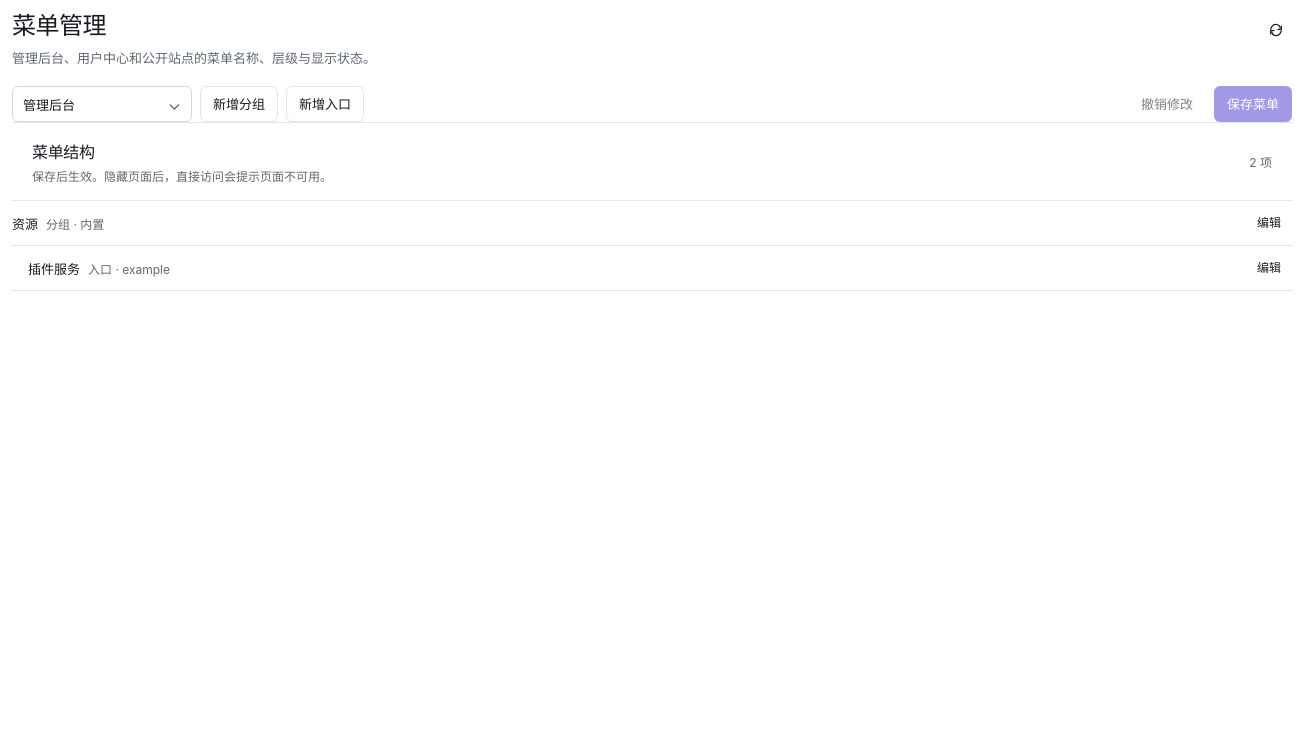
it: menu editor › preserves the draft on revision conflict and supports discarding it
Click the button "编辑" in the row of "分组 · 内置".
click(1269, 223)  # box [1246,207,1292,239]
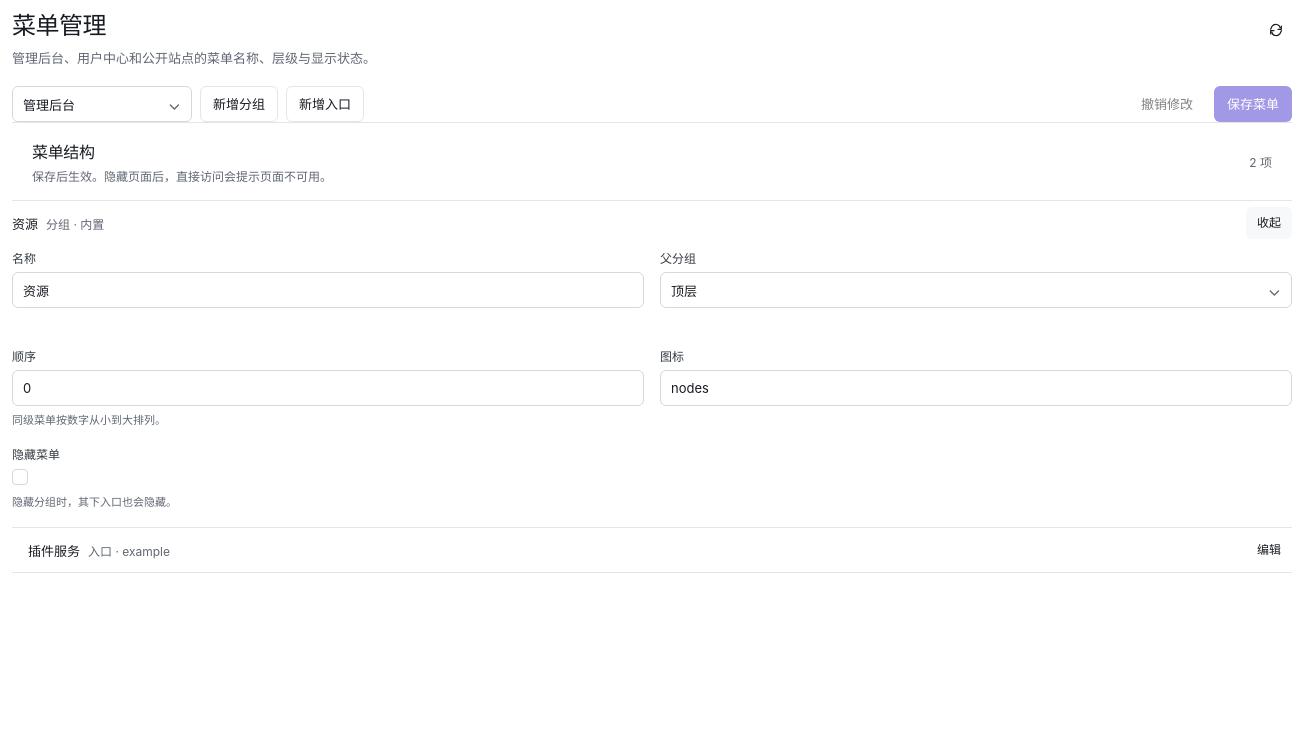
Replace the text in the field named "group 名称" with "我的资源" at (328, 290), box [12,272,644,308]
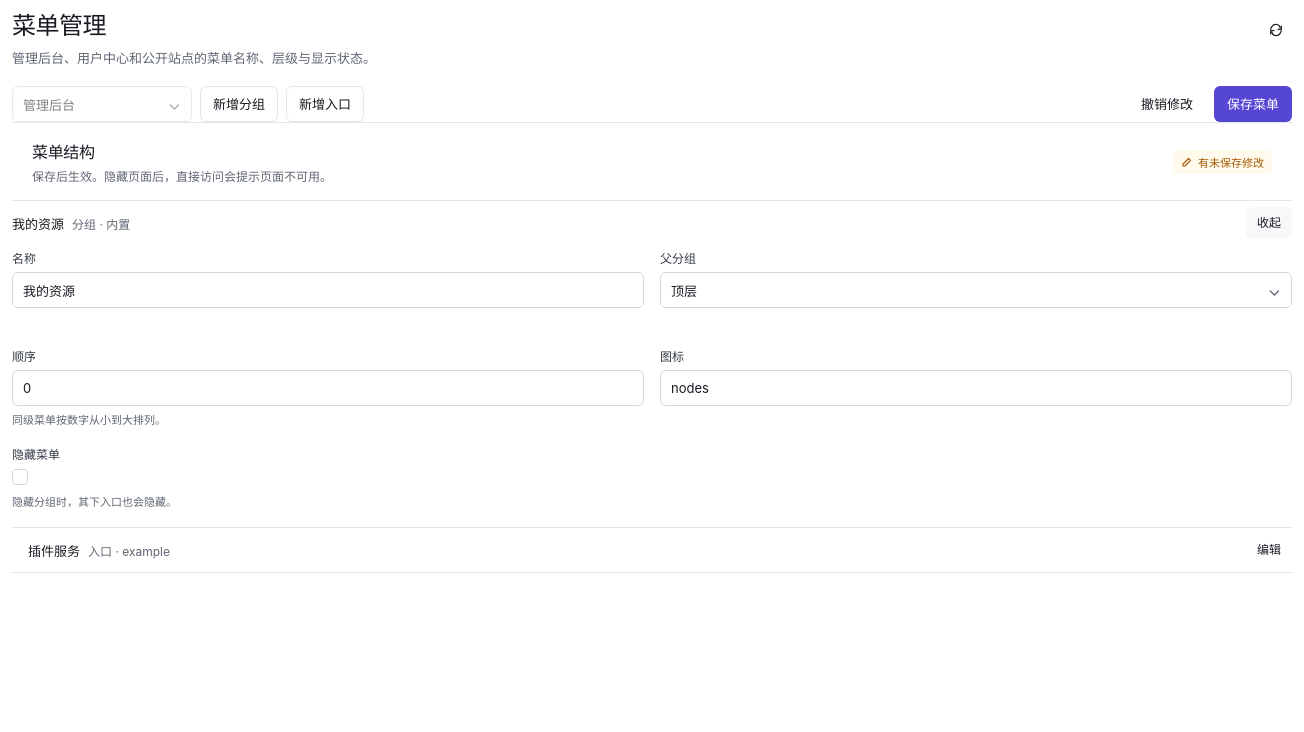
Expected: the dropdown named "菜单范围" is disabled, [12,86,192,122]
Click the button "保存菜单".
click(1253, 104)  # box [1214,86,1292,122]
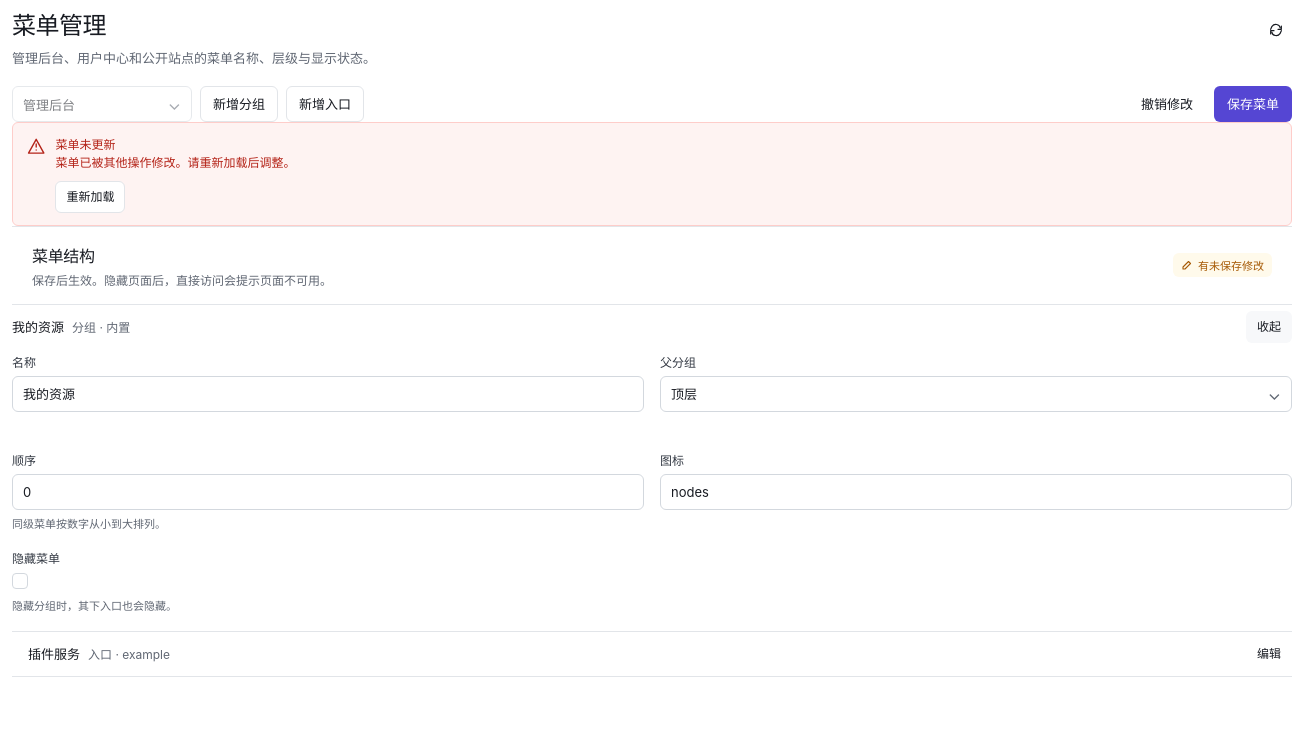
Expected: the message "菜单未更新 菜单已被其他操作修改。请重新加载后调整。 重新加载" is shown, [12,122,1292,226]
Click the button "撤销修改".
click(1167, 104)  # box [1128,86,1206,122]
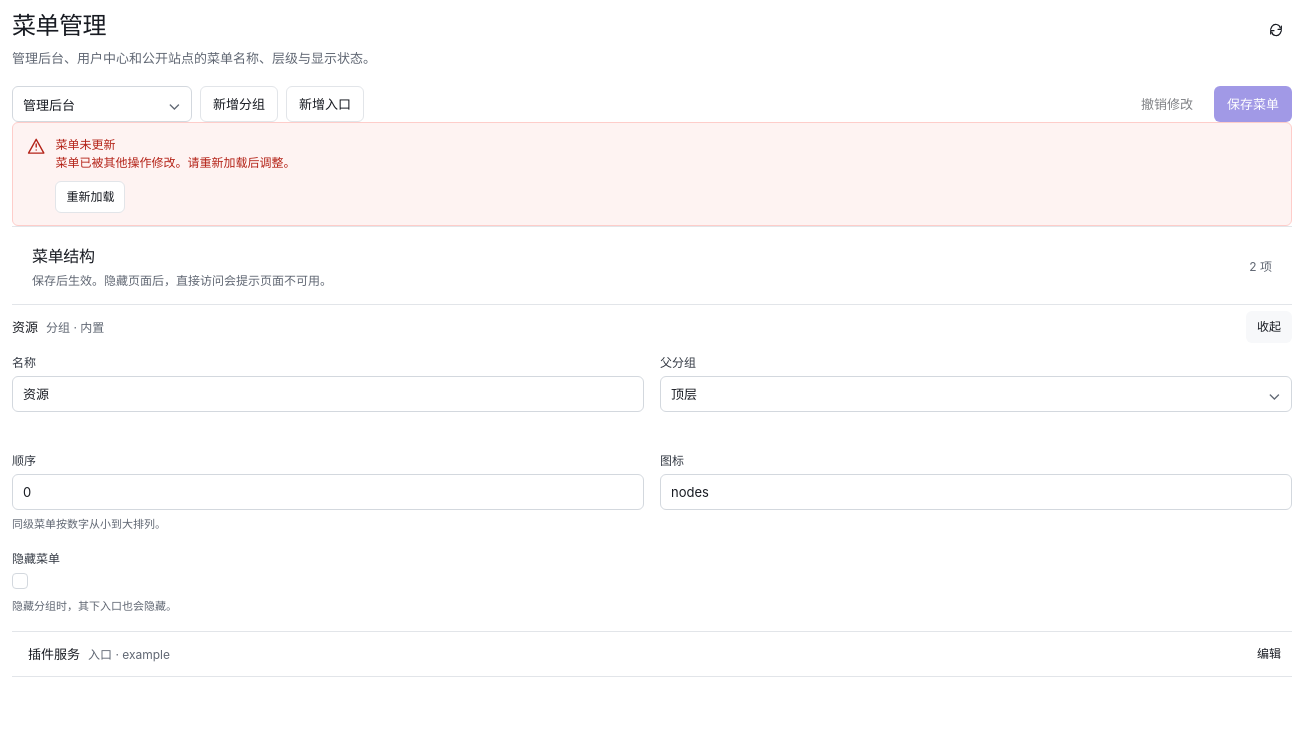
Expected: the field named "group 名称" holds "资源", [12,376,644,412]
Expected: the dropdown named "菜单范围" is enabled, [12,86,192,122]
